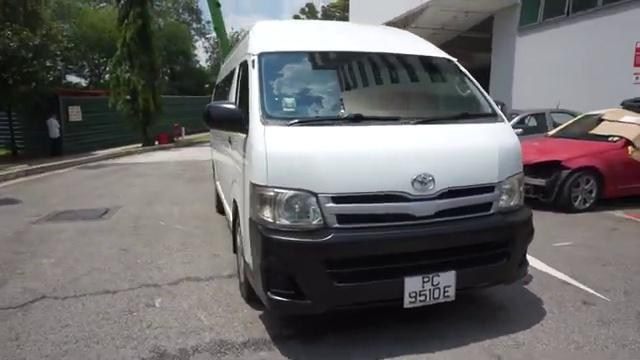Van: (199, 14, 533, 342)
